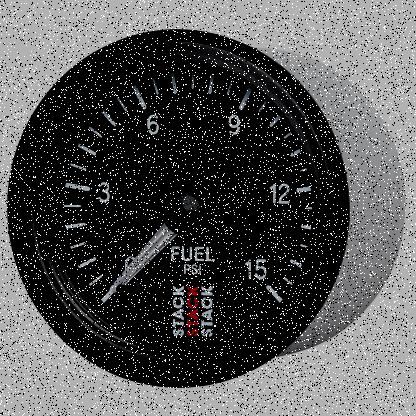needle: (107, 221, 178, 295)
